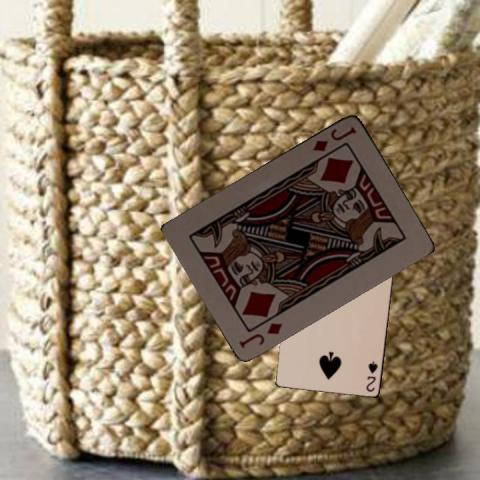2s: (363, 358, 380, 393)
Jd: (309, 123, 358, 153), (236, 319, 284, 349)
